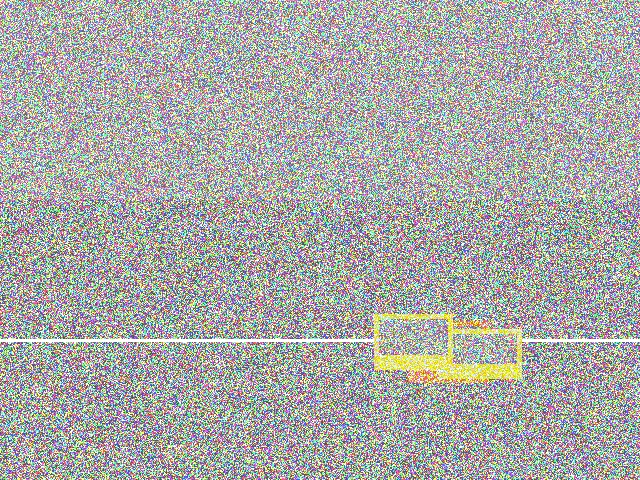bus: (256, 212, 348, 323)
